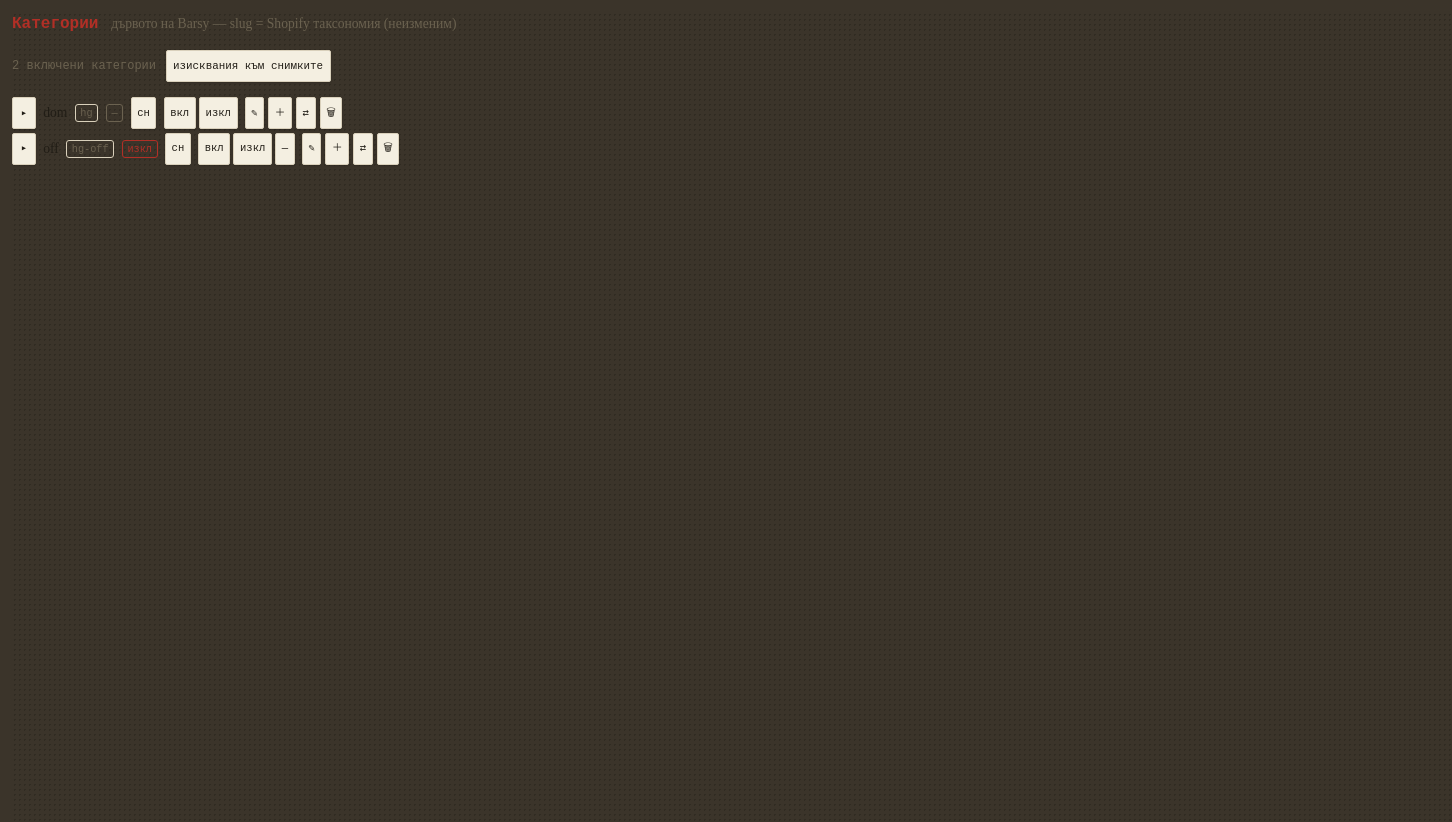
Test: видимост на категориите › shows the three states distinctly
expect the text "dom" is shown: met, box x1=43 y1=102 x2=67 y2=124
expect the text "—" is shown: met, box x1=106 y1=104 x2=123 y2=122
What coordinates should you click on to do the following:
click the button named "разгъни"
I would click on:
 (24, 113)
Its box is x1=12 y1=97 x2=36 y2=129.
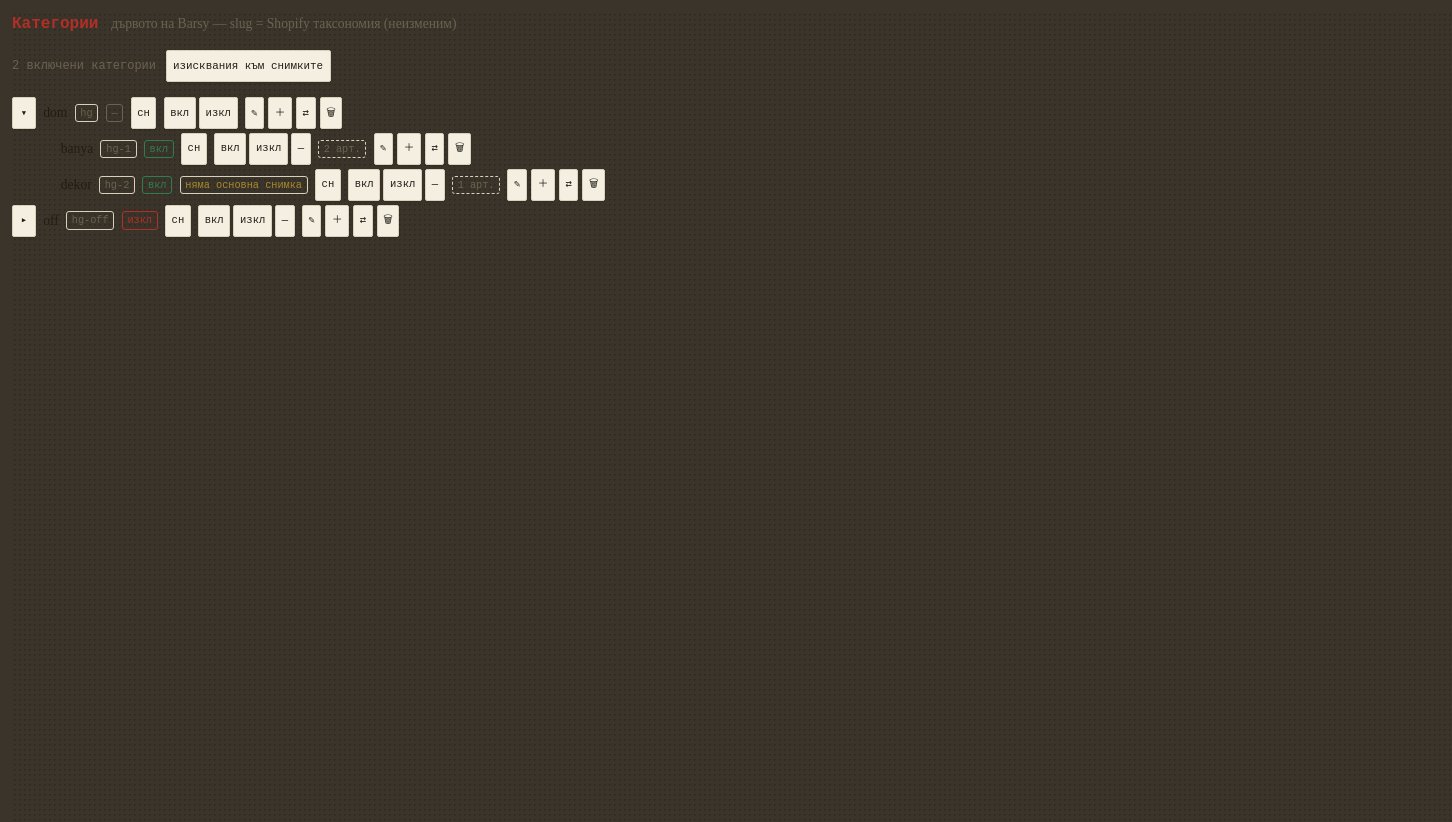
expect the text "banya" is shown: met, box x1=61 y1=138 x2=93 y2=160
expect the text "вкл" next to "hg-1" is shown: met, box x1=150 y1=143 x2=168 y2=155
